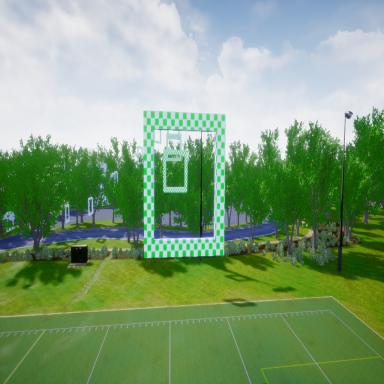gate: (142, 107, 226, 259), (162, 149, 188, 194)
